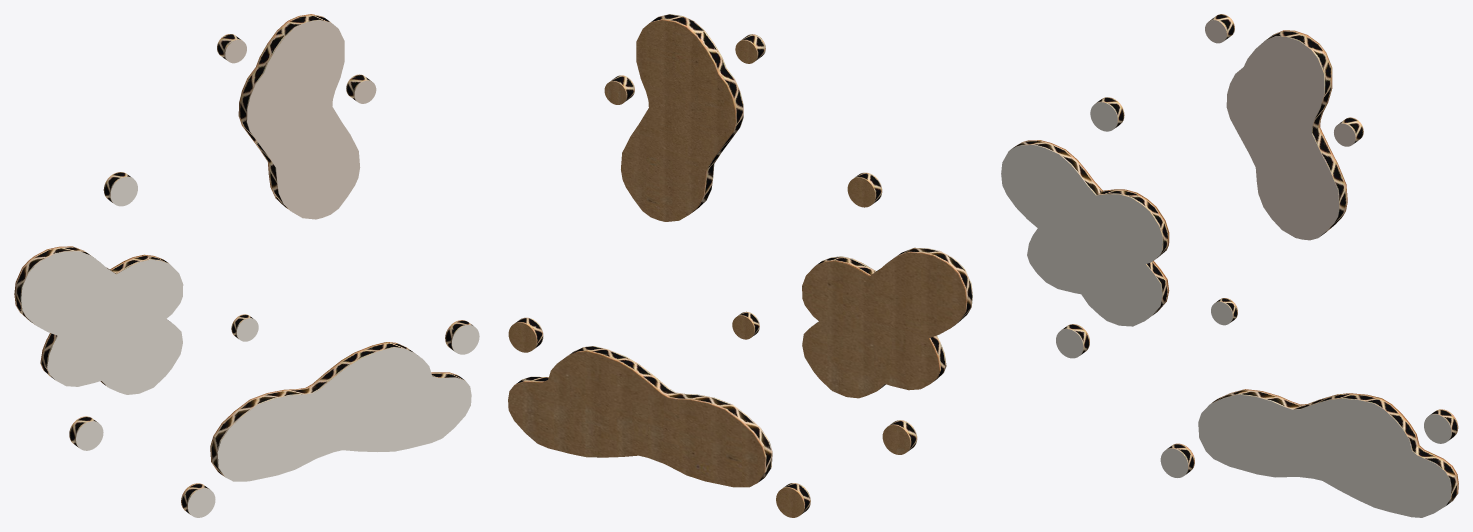
Rendered from dustBunniesFixed.fbx.
3 views of the same model, side by side, from view 1: azimuth 30°, elevation 25°; view 2: azimuth 150°, elevation 25°; view 3: azimuth 330°, elevation 25° (orthographic).
Parts seen in each view (by area): view 1: dustBunny3, dustBunny, dustBunny2, dustBunnySingle; view 2: dustBunny3, dustBunny, dustBunny2, dustBunnySingle; view 3: dustBunny3, dustBunny, dustBunny2, dustBunnySingle.
Boxes of the visible parts, left/top/right/bottom form: dustBunny3: left=181, top=320, right=479, bottom=517; dustBunny: left=14, top=172, right=183, bottom=450; dustBunny2: left=217, top=14, right=376, bottom=219; dustBunnySingle: left=231, top=314, right=258, bottom=341; dustBunny3: left=508, top=317, right=810, bottom=517; dustBunny: left=802, top=172, right=972, bottom=454; dustBunny2: left=604, top=14, right=765, bottom=221; dustBunnySingle: left=732, top=311, right=759, bottom=339; dustBunny3: left=1160, top=389, right=1458, bottom=517; dustBunny: left=1001, top=97, right=1169, bottom=358; dustBunny2: left=1205, top=14, right=1363, bottom=240; dustBunnySingle: left=1211, top=298, right=1237, bottom=325.
Bounding box in the file's own units: 145 × 142 × 6.55.
